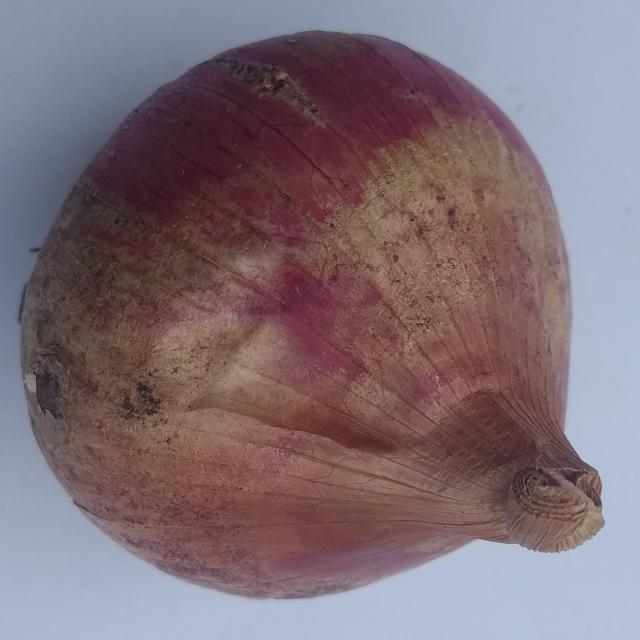onion: (17, 30, 608, 602)
